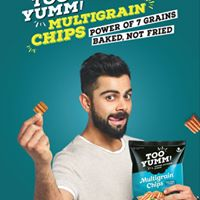plastic: (129, 140, 187, 198)
tooyumm: (140, 148, 175, 168)
wrapper: (134, 145, 186, 196)
